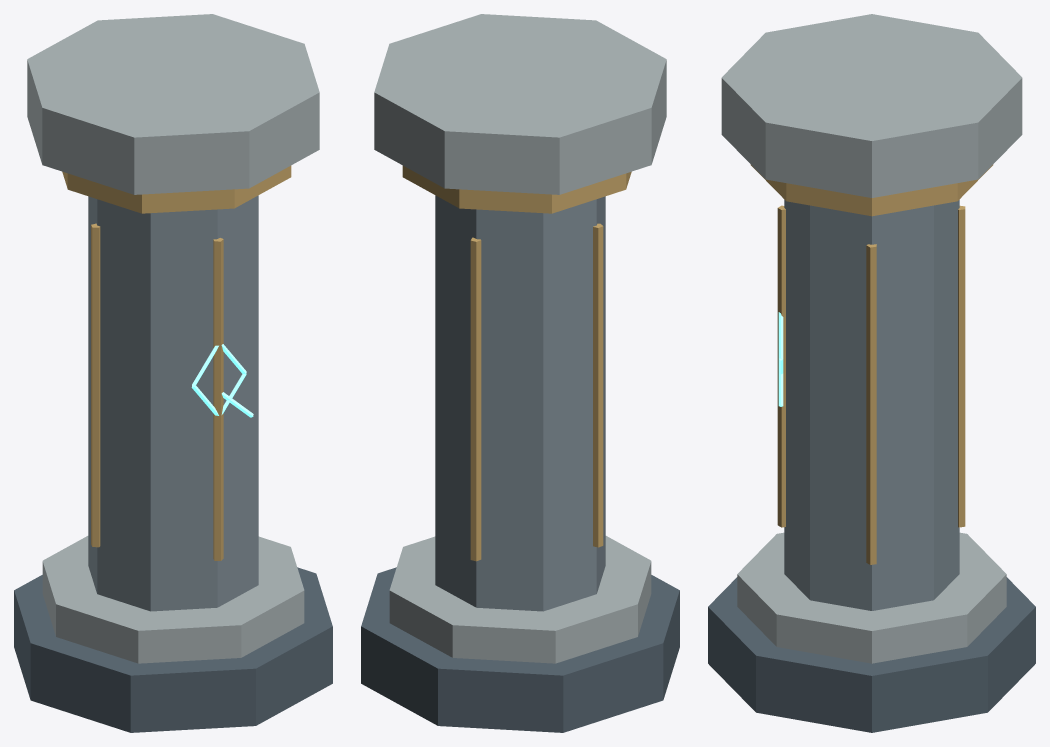
The model's file is crypt_pillar.glb.
3 views of the same model, side by side, from view 1: azimuth 30°, elevation 25°; view 2: azimuth 150°, elevation 25°; view 3: azimuth 270°, elevation 25° (orthographic).
Visible parts, largest first — view 1: crypt_pillar_Geometry; view 2: crypt_pillar_Geometry; view 3: crypt_pillar_Geometry.
Part boxes in pixels (left/top/right/bottom): crypt_pillar_Geometry: left=14, top=14, right=332, bottom=732; crypt_pillar_Geometry: left=361, top=14, right=679, bottom=732; crypt_pillar_Geometry: left=708, top=14, right=1035, bottom=732.
Size of the model in its own units: 1.46 by 2.88 by 1.46.
